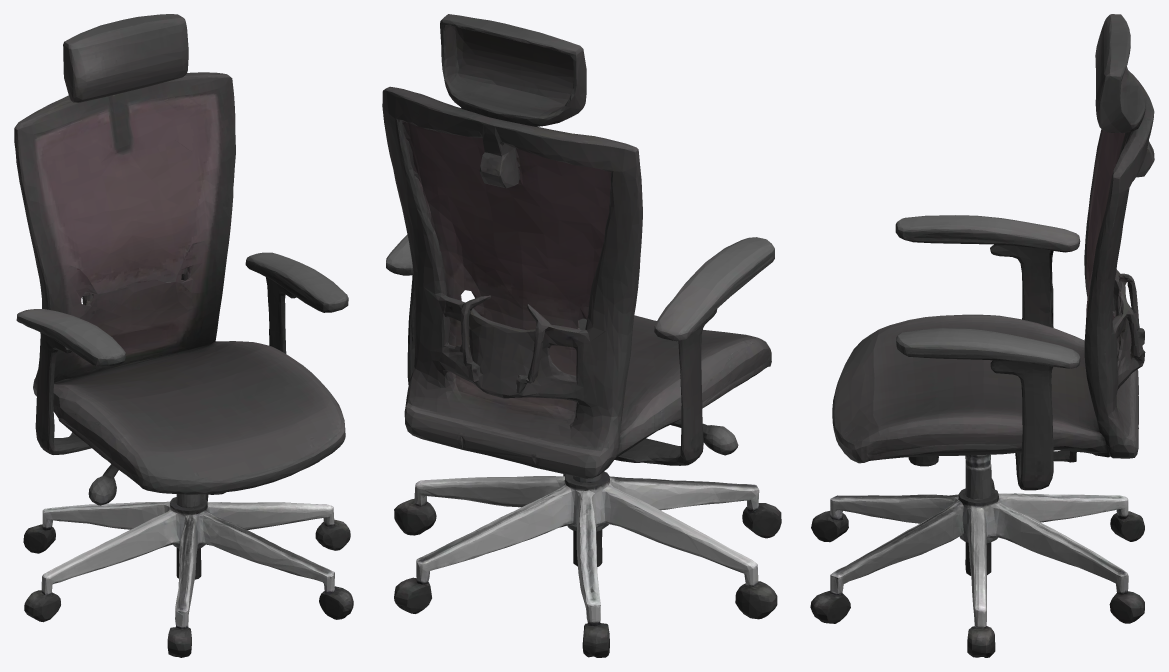
The model's file is 4df95887-5bb0-4669-81b0-855d1b5aded0.glb.
The picture shows the model from 3 angles, left to right: view 1: azimuth 30°, elevation 25°; view 2: azimuth 150°, elevation 25°; view 3: azimuth 270°, elevation 25°; orthographic projection. The views are drawn at different scales.
Visible parts, largest first — view 1: world; view 2: world; view 3: world.
Part boxes in pixels (x1=…): world: x1=14, y1=14, x2=353, y2=657; world: x1=382, y1=14, x2=781, y2=657; world: x1=810, y1=14, x2=1154, y2=657.
Bounding box in the file's own units: 0.66 × 1 × 0.577.
Materials: 1 (1 with a texture image).
